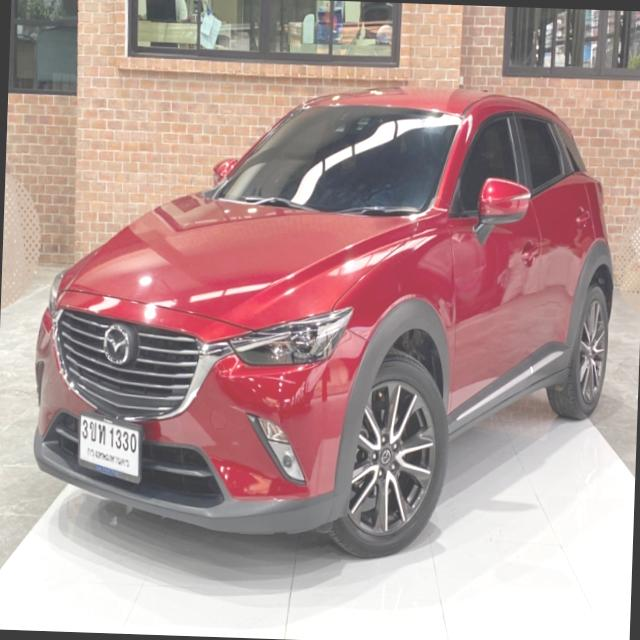license_plate: (75, 409, 144, 486)
